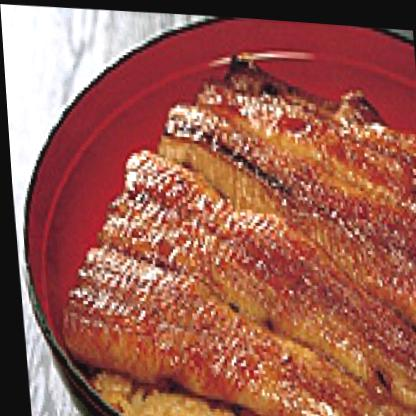eel: (76, 63, 415, 415)
